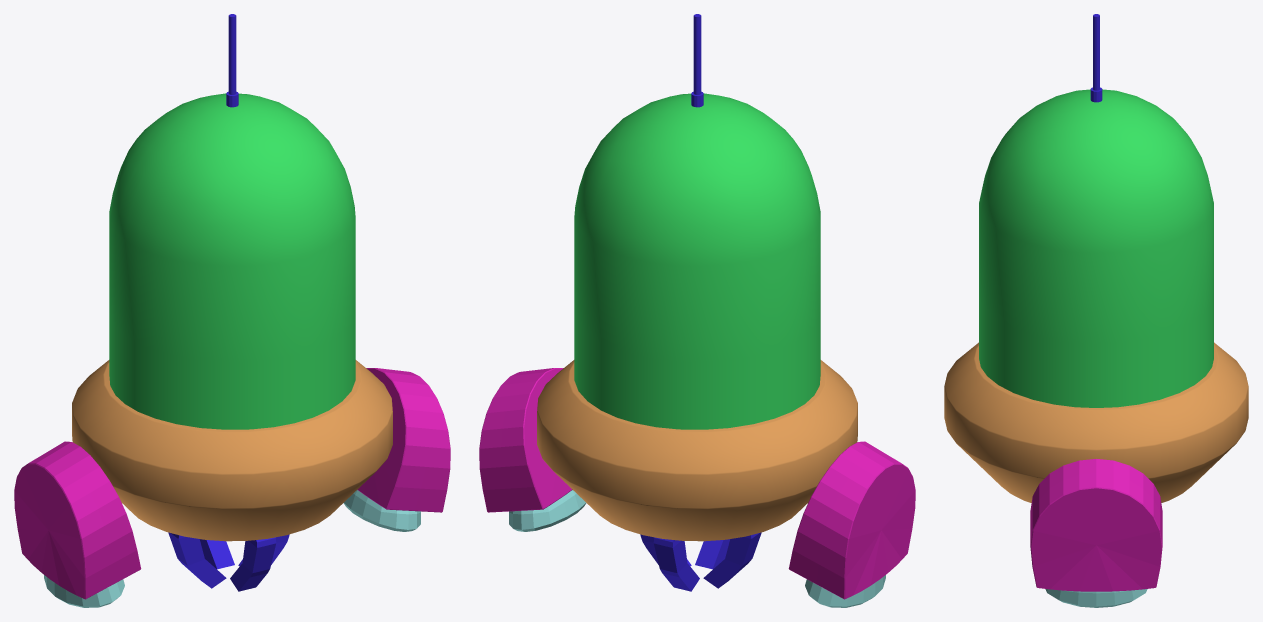
File: fishBot2.fbx
3 renders of one model, left to right at view 1: azimuth 30°, elevation 25°; view 2: azimuth 150°, elevation 25°; view 3: azimuth 270°, elevation 25°, orthographic. The views are drawn at different scales.
Parts seen in each view (by area): view 1: Roundcube.003; view 2: Roundcube.003; view 3: Roundcube.003.
Part boxes in pixels (x1,y1,x2,y2): Roundcube.003: (14, 14, 450, 607); Roundcube.003: (479, 14, 915, 607); Roundcube.003: (944, 14, 1248, 607).
Size of the model in its own units: 263 by 377 by 195.
